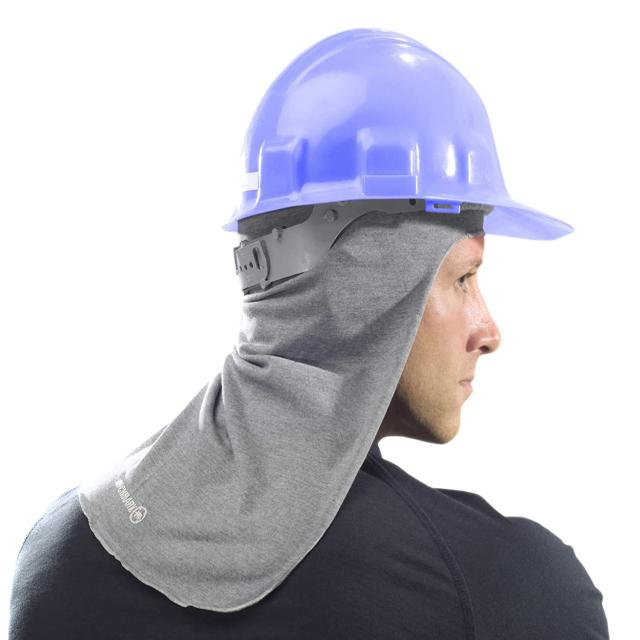illegal_helmet: (214, 22, 576, 452)
